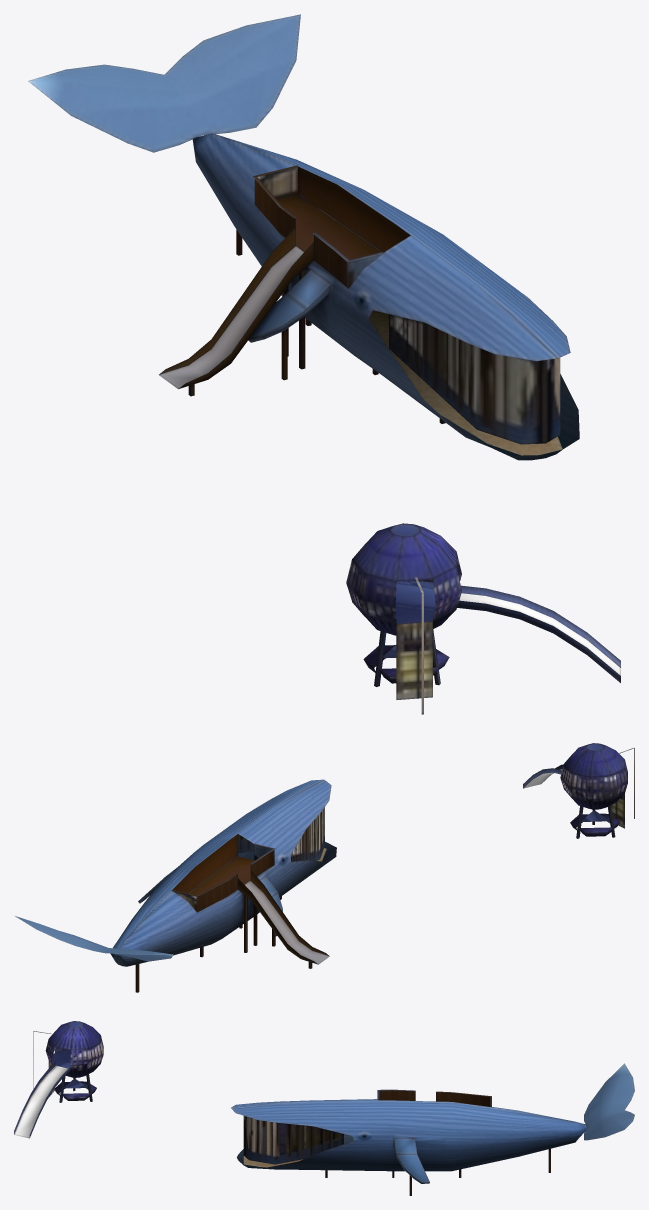
Rendered from Kit.obj.
3 renders of one model, top to bottom at view 1: azimuth 30°, elevation 25°; view 2: azimuth 150°, elevation 25°; view 3: azimuth 270°, elevation 25°, orthographic. The views are drawn at different scales.
Parts seen in each view (by area): view 1: Kit; view 2: Kit; view 3: Kit.
Boxes of the visible parts, x1=… form: Kit: x1=28, y1=14, x2=620, y2=714; Kit: x1=15, y1=743, x2=634, y2=992; Kit: x1=14, y1=1021, x2=634, y2=1195.
Size of the model in its own units: 466 by 138 by 1013.
